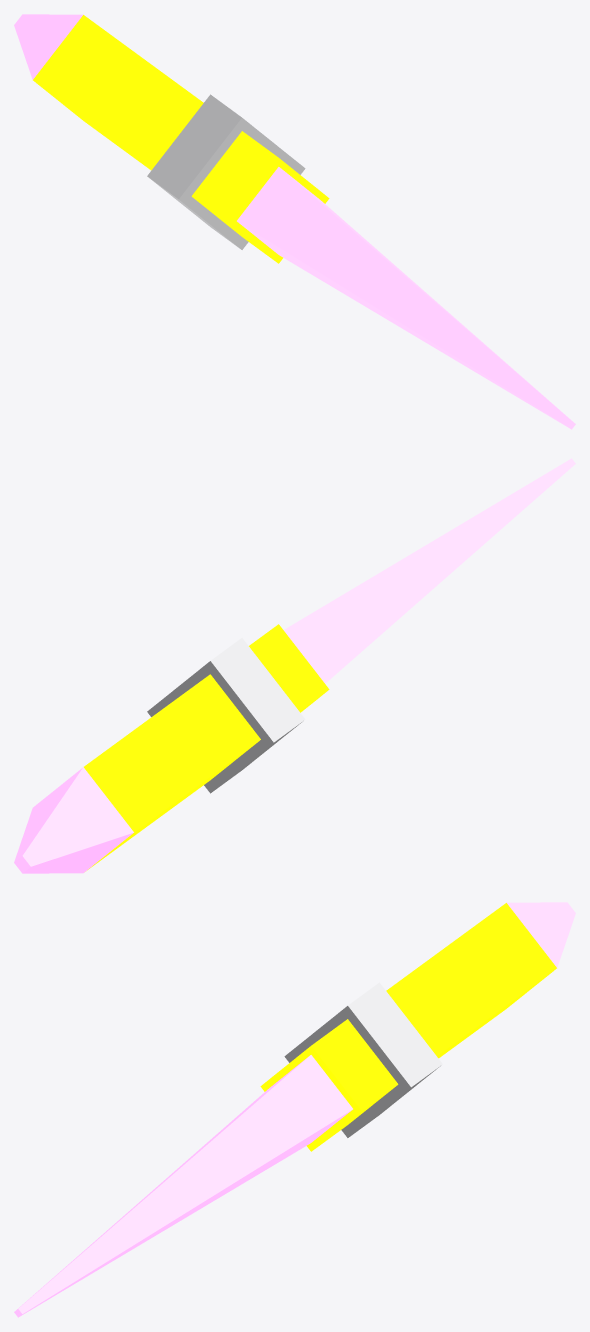
The model's file is Proj_RotaryRound.fbx.
3 renders of one model, top to bottom at view 1: azimuth 30°, elevation 25°; view 2: azimuth 150°, elevation 25°; view 3: azimuth 330°, elevation 25°, orthographic.
Parts seen in each view (by area): view 1: Rotary_Core, Rotary_Trail, Rotary_Band, Rotary_Tip; view 2: Rotary_Core, Rotary_Trail, Rotary_Tip, Rotary_Band; view 3: Rotary_Core, Rotary_Trail, Rotary_Band, Rotary_Tip.
Part boxes in pixels (<box>): Rotary_Core: <box>33,15,329,263</box>; Rotary_Trail: <box>237,167,575,429</box>; Rotary_Band: <box>147,94,305,249</box>; Rotary_Tip: <box>14,14,82,79</box>; Rotary_Core: <box>84,624,329,870</box>; Rotary_Trail: <box>283,458,575,683</box>; Rotary_Tip: <box>14,767,133,873</box>; Rotary_Band: <box>147,638,305,793</box>; Rotary_Core: <box>260,903,556,1151</box>; Rotary_Trail: <box>14,1055,352,1317</box>; Rotary_Band: <box>284,982,442,1137</box>; Rotary_Tip: <box>507,902,575,967</box>.
Bounding box in the file's own units: 0.03 × 0.03 × 0.225.
